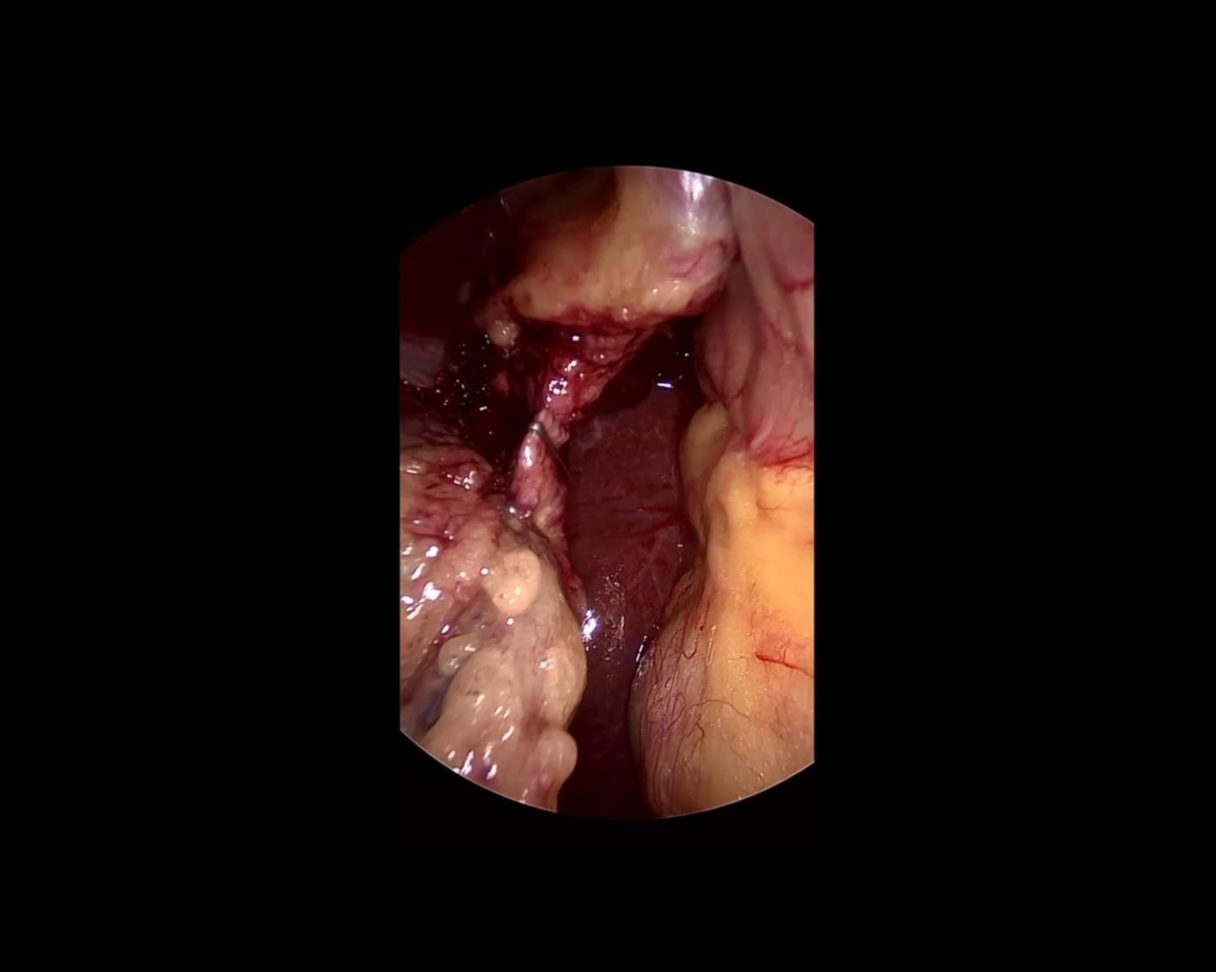Gallbladder: (399, 386, 584, 810)
Liver: (559, 379, 688, 822)
